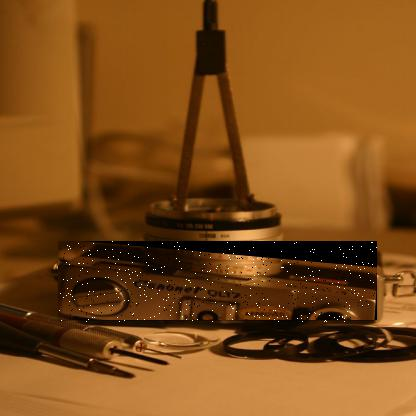Camera: (59, 243, 379, 325)
